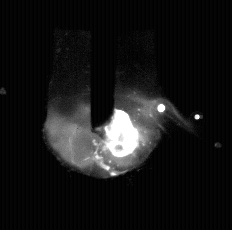arame: (91, 0, 115, 130)
poca: (46, 0, 164, 230)
